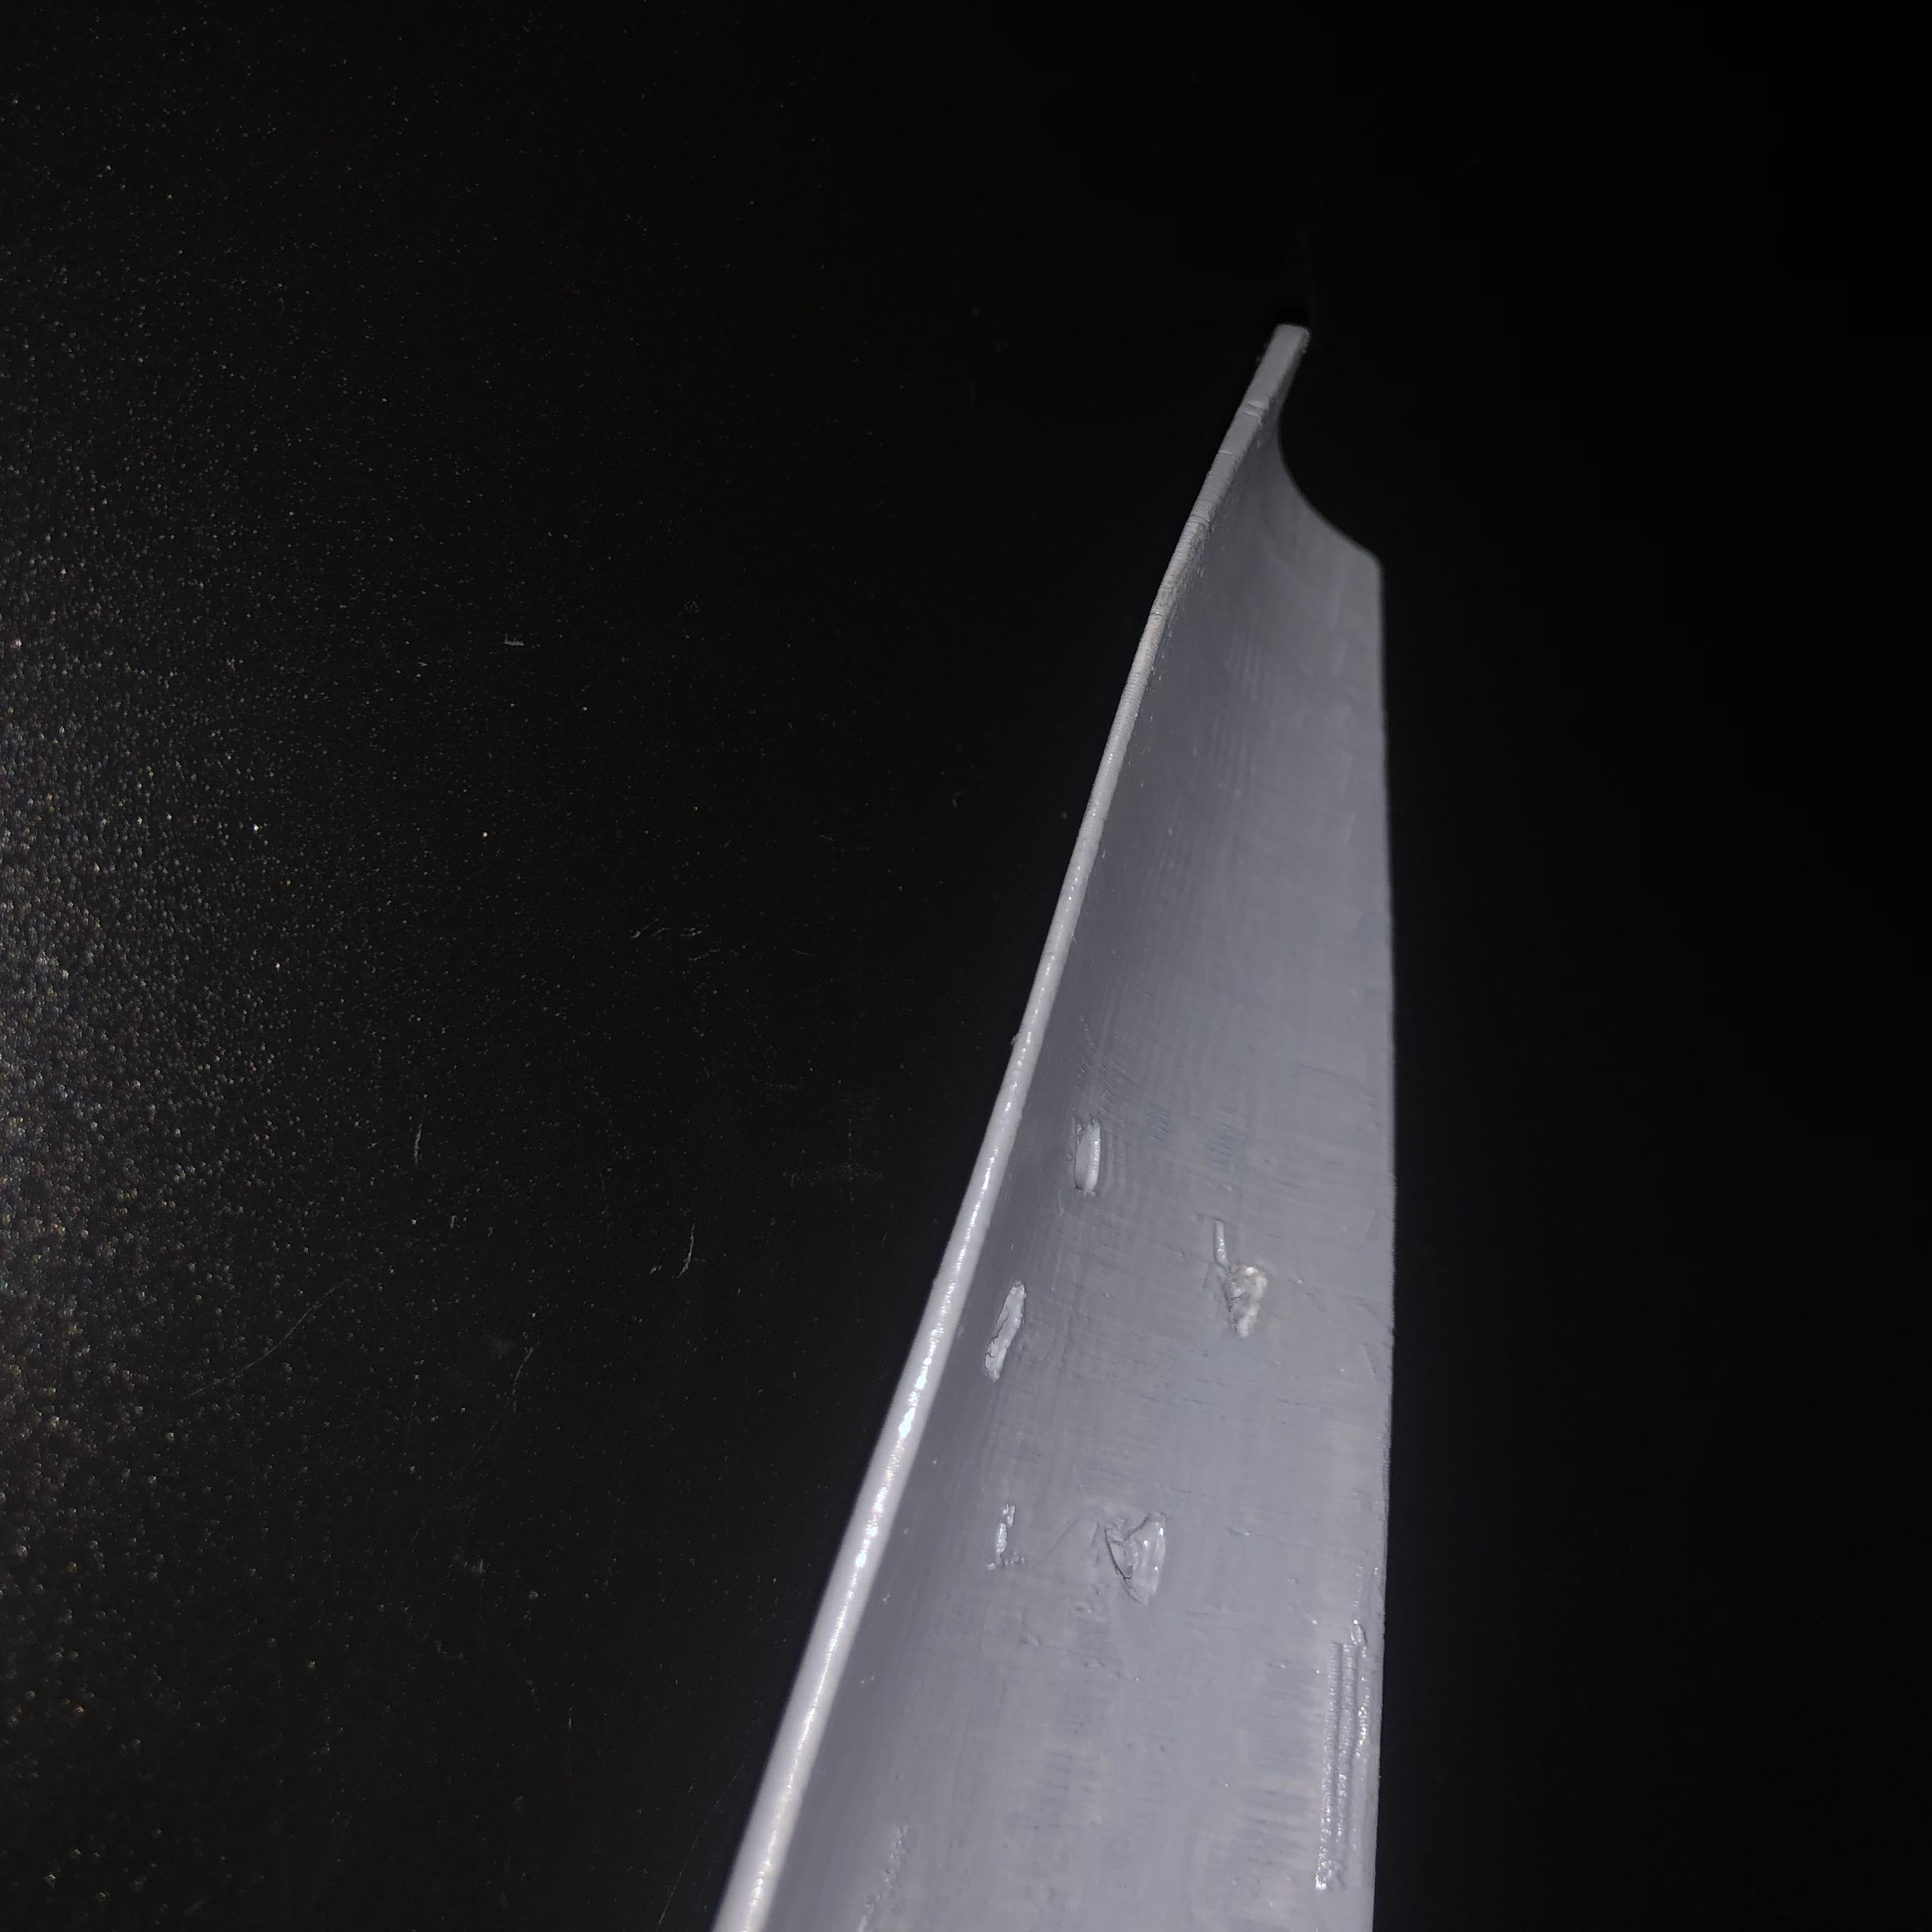breakdown: (982, 1134, 1258, 1619)
